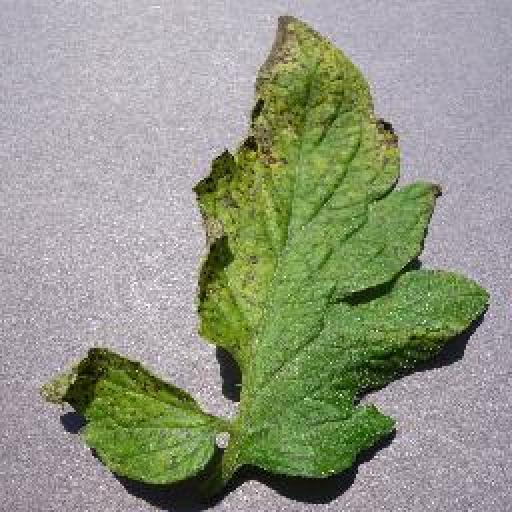Septoria: (39, 16, 494, 485)
